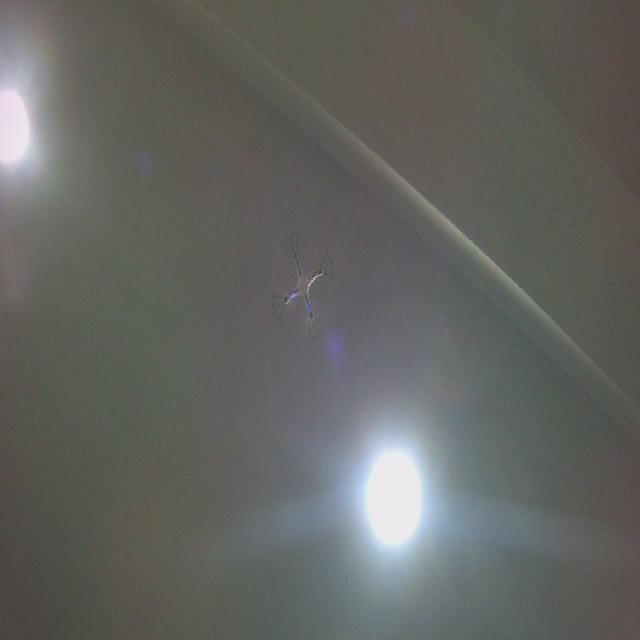drone: (269, 228, 338, 346)
